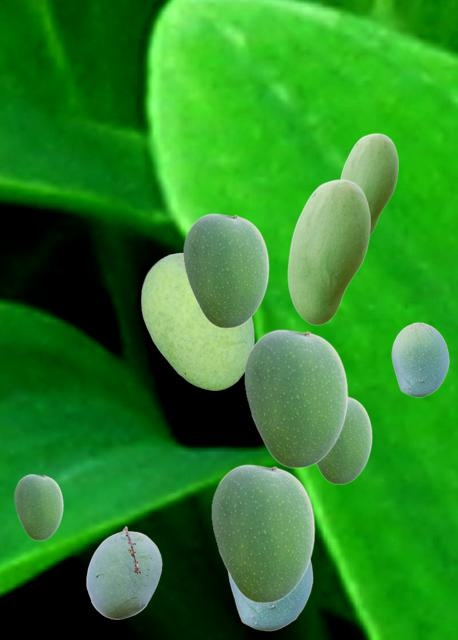green_mango: (141, 252, 253, 389), (244, 329, 347, 467), (211, 464, 314, 602), (287, 179, 369, 324), (183, 213, 268, 327), (86, 526, 161, 618), (227, 560, 312, 630), (340, 133, 397, 235), (316, 396, 371, 483), (391, 322, 448, 396), (14, 474, 62, 539)
